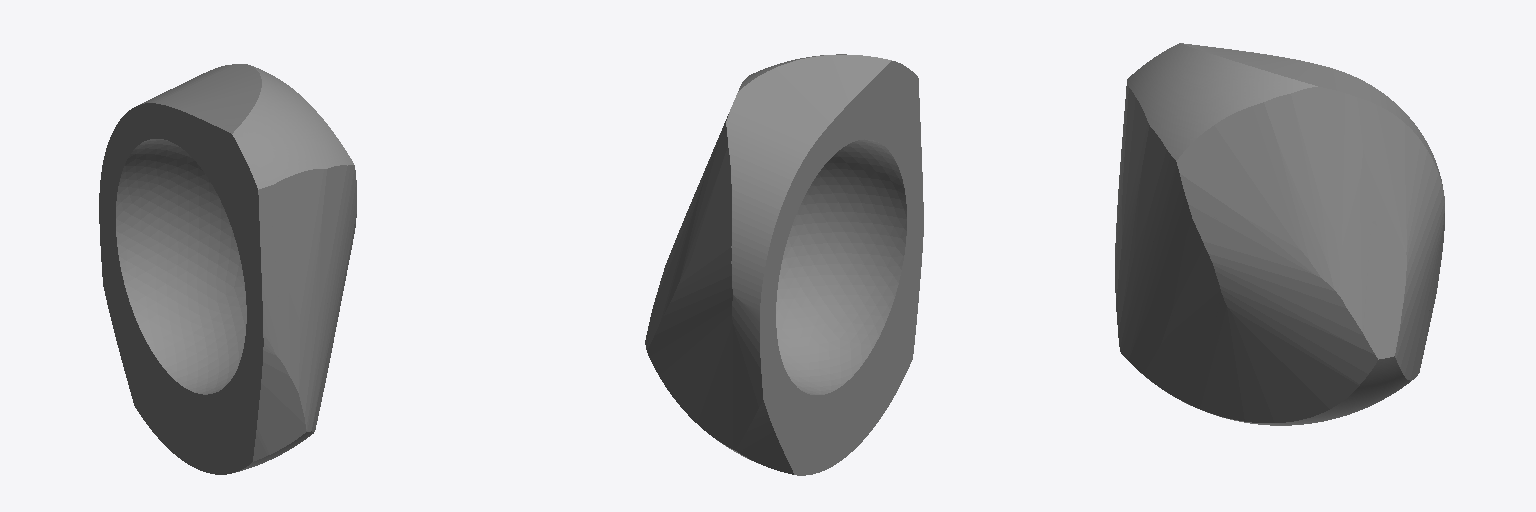
File: random_bridged_1_v1_left.obj
The picture shows the model from 3 angles: view 1: azimuth 30°, elevation 25°; view 2: azimuth 150°, elevation 25°; view 3: azimuth 270°, elevation 25°; orthographic projection.
Parts seen in each view (by area): view 1: GeoSphere001; view 2: GeoSphere001; view 3: GeoSphere001.
Part boxes in pixels (x1,y1,x2,y2): GeoSphere001: (99,64,356,474); GeoSphere001: (645,54,923,475); GeoSphere001: (1115,43,1444,425).
Bounding box in the file's own units: 1.05 × 2.5 × 2.01.